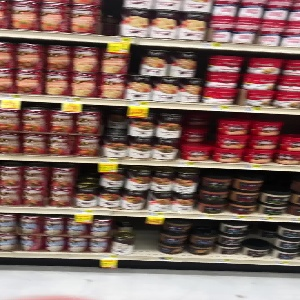void: (131, 214, 160, 256)
